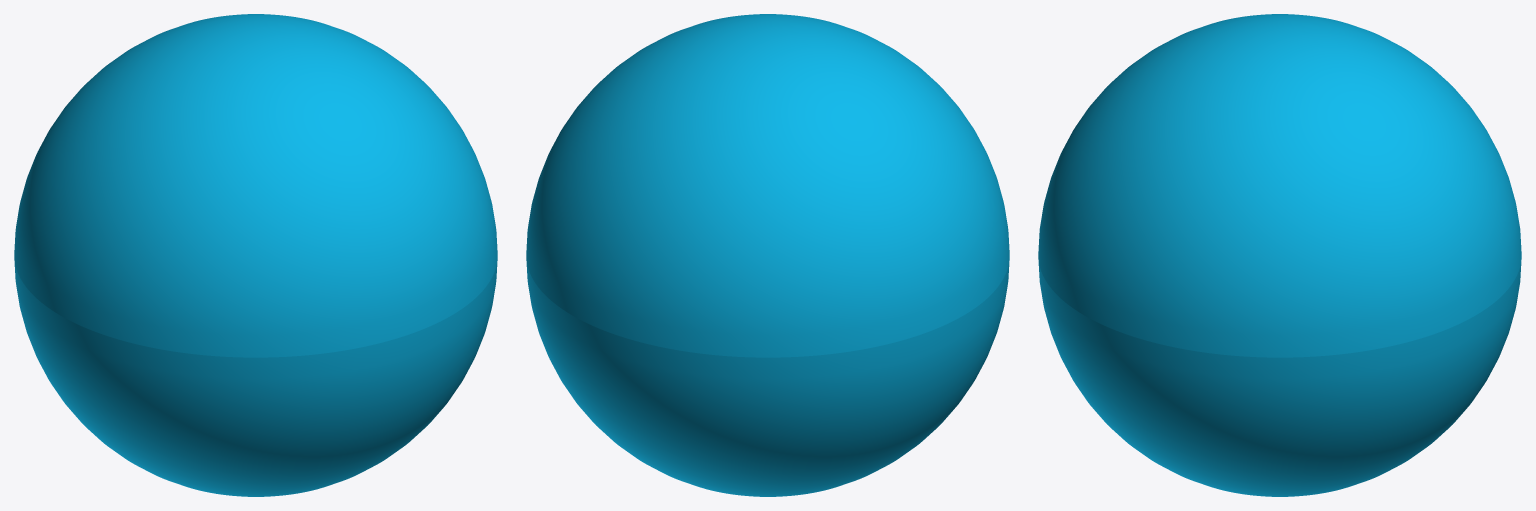
Rendered from smooth_sphere.glb.
The picture shows the model from 3 angles, left to right: view 1: azimuth 30°, elevation 25°; view 2: azimuth 150°, elevation 25°; view 3: azimuth 270°, elevation 25°; orthographic projection.
Parts seen in each view (by area): view 1: Sphere.001, Sphere.002; view 2: Sphere.001, Sphere.002; view 3: Sphere.001, Sphere.002.
Part boxes in pixels (x1,y1,x2,y2): Sphere.001: [14, 14, 497, 357]; Sphere.002: [14, 259, 497, 496]; Sphere.001: [526, 14, 1009, 357]; Sphere.002: [526, 259, 1009, 496]; Sphere.001: [1038, 14, 1521, 357]; Sphere.002: [1038, 262, 1521, 496].
Size of the model in its own units: 2 by 2 by 2.
